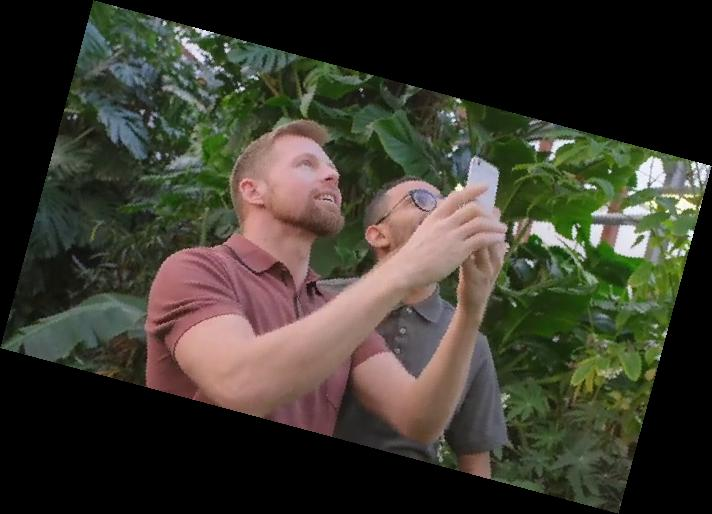phone: (459, 153, 501, 212)
